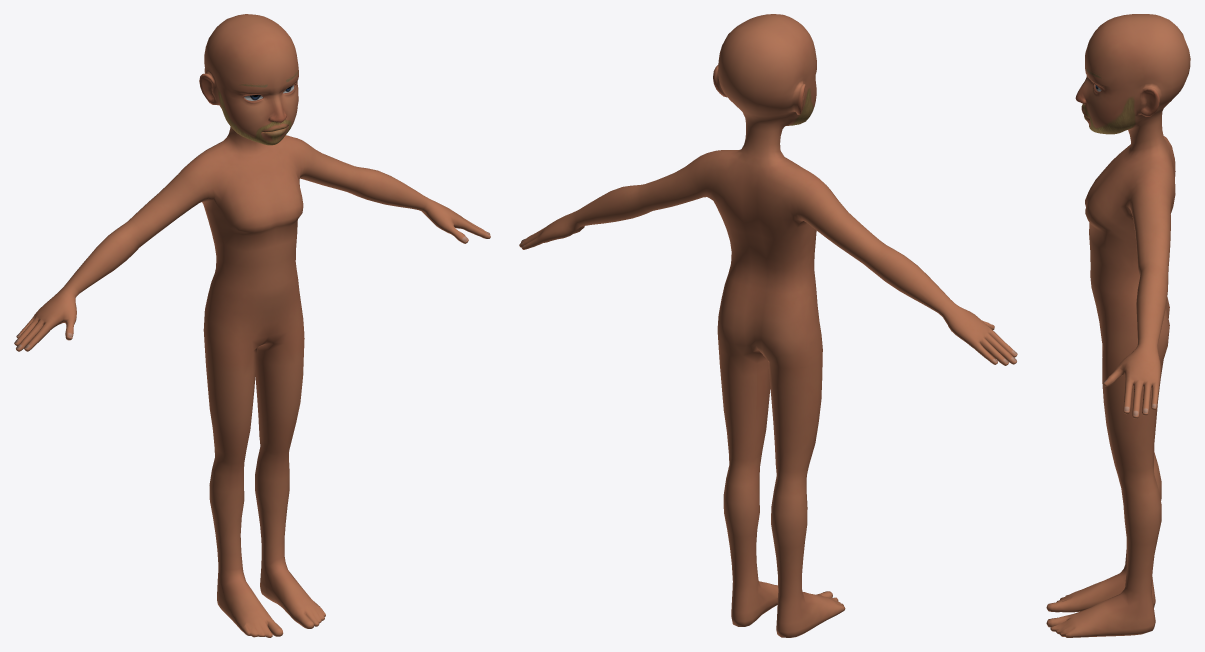
The model's file is frame_0057.glb.
The picture shows the model from 3 angles, left to right: view 1: azimuth 30°, elevation 25°; view 2: azimuth 150°, elevation 25°; view 3: azimuth 270°, elevation 25°; orthographic projection. The views are drawn at different scales.
Parts seen in each view (by area): view 1: frame_0057_head_geo; view 2: frame_0057_head_geo; view 3: frame_0057_head_geo.
Part boxes in pixels (<box>): frame_0057_head_geo: <box>14,14,490,637</box>; frame_0057_head_geo: <box>519,14,1017,637</box>; frame_0057_head_geo: <box>1046,14,1190,637</box>.
Bounding box in the file's own units: 1.28 × 1.5 × 0.3253.
Materials: 3 (3 with a texture image).
